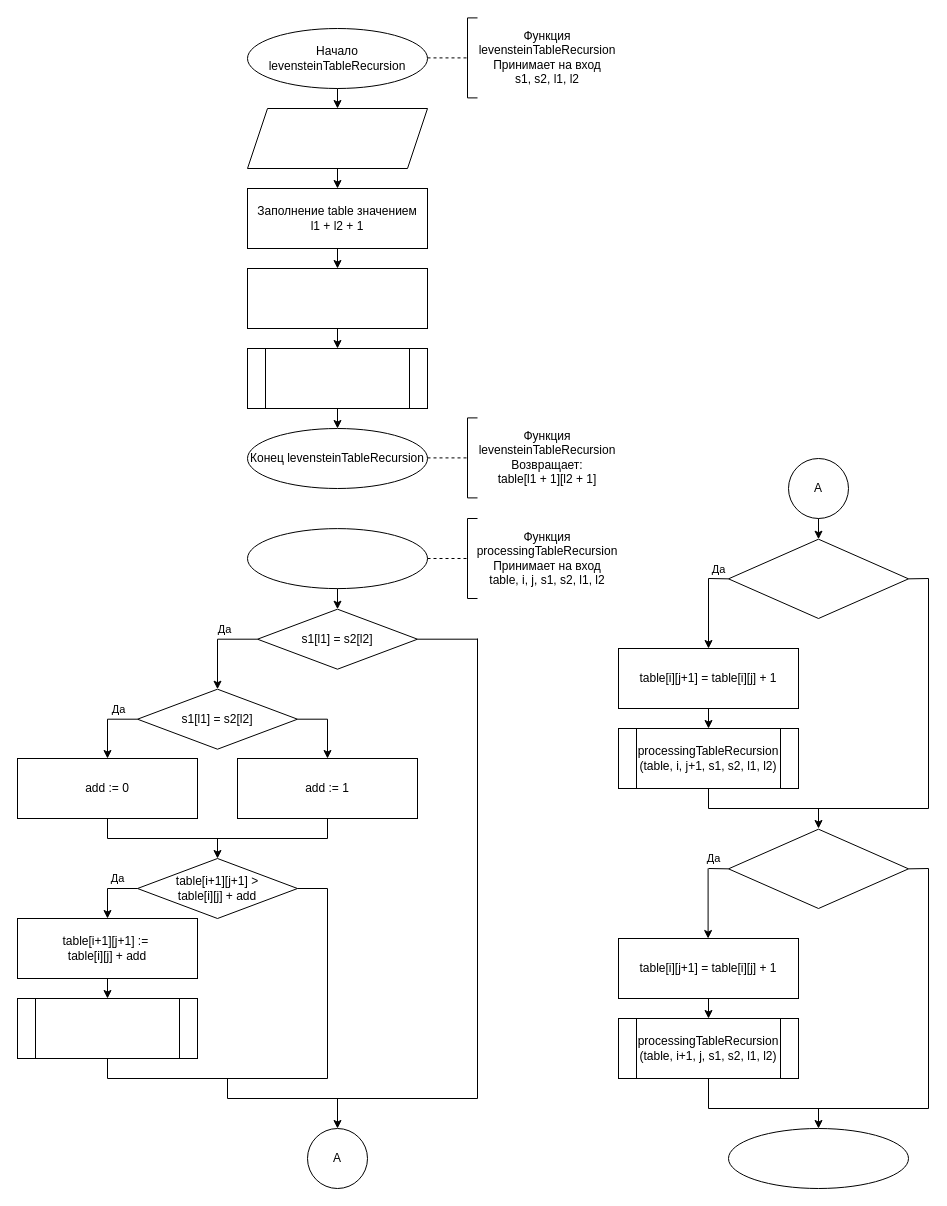
The diagram is 947 pixels wide and 1206 high, and some of its shapes have lost their labels. The centre of each missing label's shape, as x and y in pixels:
"i+1 <= l1 and table[i+1][j] > table[i][j] + 1" belongs at pixel 818 868.
"j+1 <= l2 and table[i][j+1] > table[i][j]+1" belongs at pixel 818 578.
"processingTableRecursion (table, 1, 1, s1, s2, l1, l2)" belongs at pixel 337 378.
"processingTableRecursion (table, i+1, j+1, s1, s2, l1, l2)" belongs at pixel 107 1028.
"table[1][1] := 0" belongs at pixel 337 298.
"Конец processingTableRecursion" belongs at pixel 818 1158.
"Начало processingTableRecursion" belongs at pixel 337 558.
"Создание матрицы table размером (l1 + 1)x(l2 + 1)" belongs at pixel 337 138.
